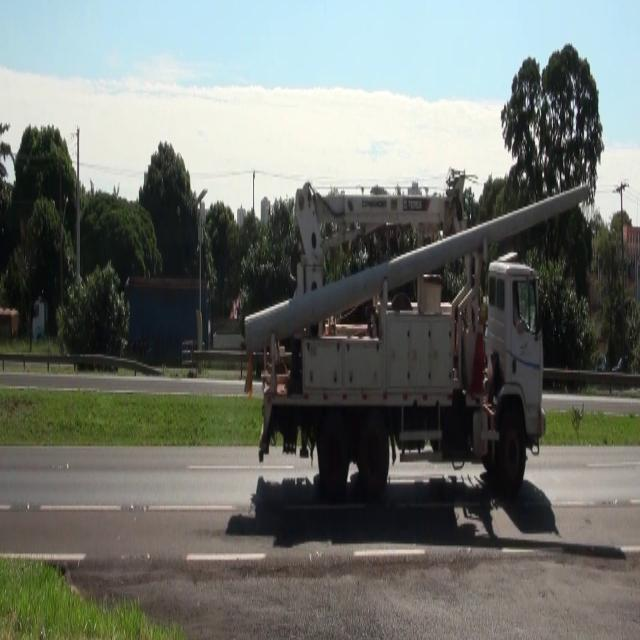-axle: (357, 417, 390, 504), (494, 418, 526, 496), (318, 423, 346, 503)
